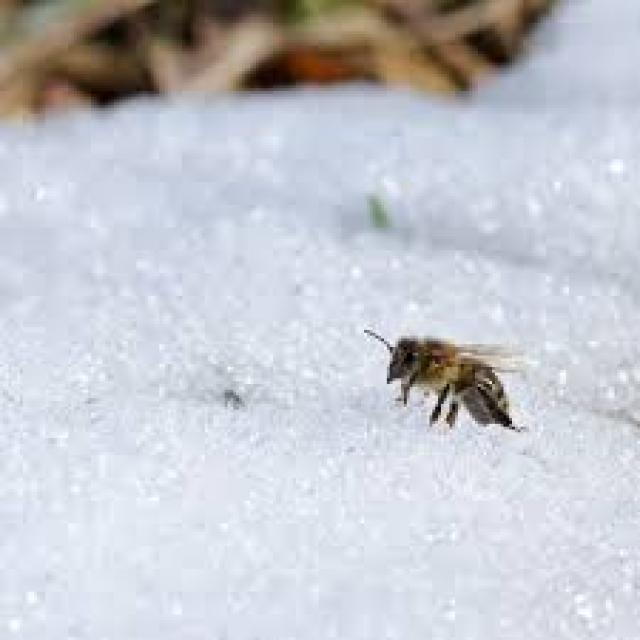Bees: (364, 326, 530, 438)
